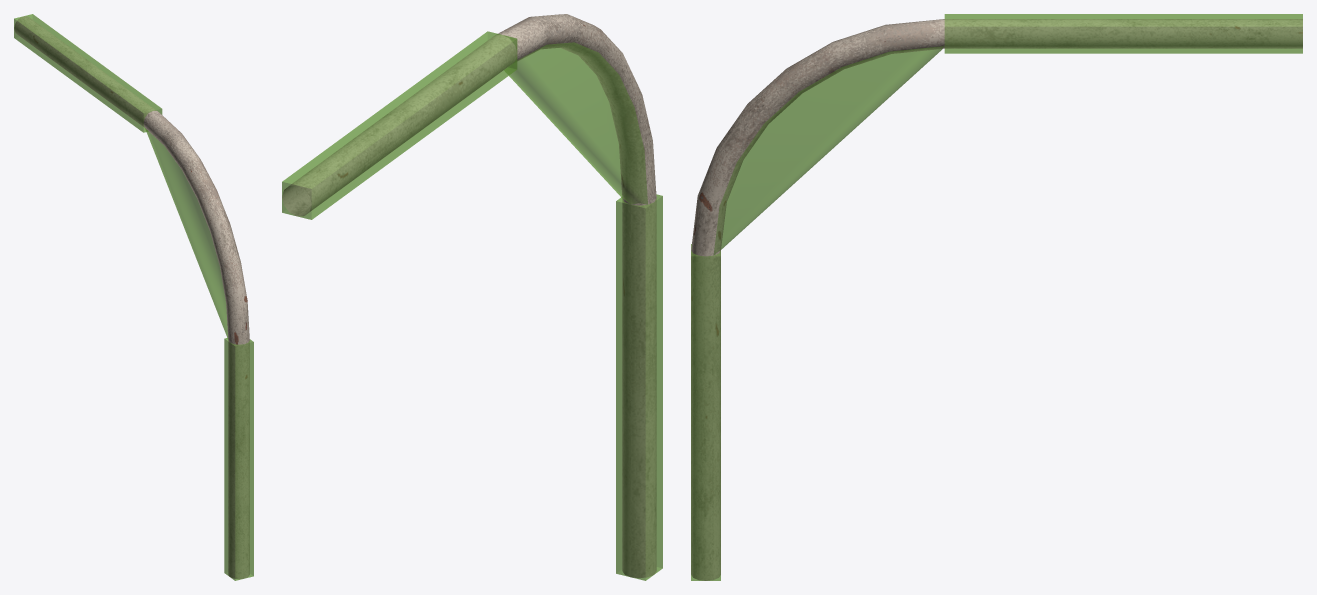
The model's file is p_Pipe_90_cnr_01_a.fbx.
3 views of the same model, side by side, from view 1: azimuth 30°, elevation 25°; view 2: azimuth 150°, elevation 25°; view 3: azimuth 270°, elevation 25° (orthographic). The views are drawn at different scales.
Visible parts, largest first — view 1: p_Pipe_90_cnr_01_a_LOD0, p_Pipe_90_cnr_01_a_col_02, p_Pipe_90_cnr_01_a_col_03, p_Pipe_90_cnr_01_a_col_01; view 2: p_Pipe_90_cnr_01_a_LOD0, p_Pipe_90_cnr_01_a_col_02, p_Pipe_90_cnr_01_a_col_03, p_Pipe_90_cnr_01_a_col_01; view 3: p_Pipe_90_cnr_01_a_LOD0, p_Pipe_90_cnr_01_a_col_03, p_Pipe_90_cnr_01_a_col_01, p_Pipe_90_cnr_01_a_col_02.
Boxes of the visible parts, left/top/right/bottom form: p_Pipe_90_cnr_01_a_LOD0: left=14, top=16, right=249, bottom=579; p_Pipe_90_cnr_01_a_col_02: left=224, top=338, right=253, bottom=580; p_Pipe_90_cnr_01_a_col_03: left=14, top=14, right=162, bottom=132; p_Pipe_90_cnr_01_a_col_01: left=145, top=128, right=228, bottom=339; p_Pipe_90_cnr_01_a_LOD0: left=282, top=14, right=656, bottom=578; p_Pipe_90_cnr_01_a_col_02: left=616, top=194, right=662, bottom=580; p_Pipe_90_cnr_01_a_col_03: left=282, top=31, right=517, bottom=219; p_Pipe_90_cnr_01_a_col_01: left=504, top=42, right=647, bottom=204; p_Pipe_90_cnr_01_a_LOD0: left=691, top=19, right=1302, bottom=580; p_Pipe_90_cnr_01_a_col_03: left=944, top=14, right=1302, bottom=53; p_Pipe_90_cnr_01_a_col_01: left=713, top=46, right=944, bottom=254; p_Pipe_90_cnr_01_a_col_02: left=691, top=244, right=720, bottom=580.
Size of what is drawn, in the model's own units: 2.5 by 51.25 by 51.25.
